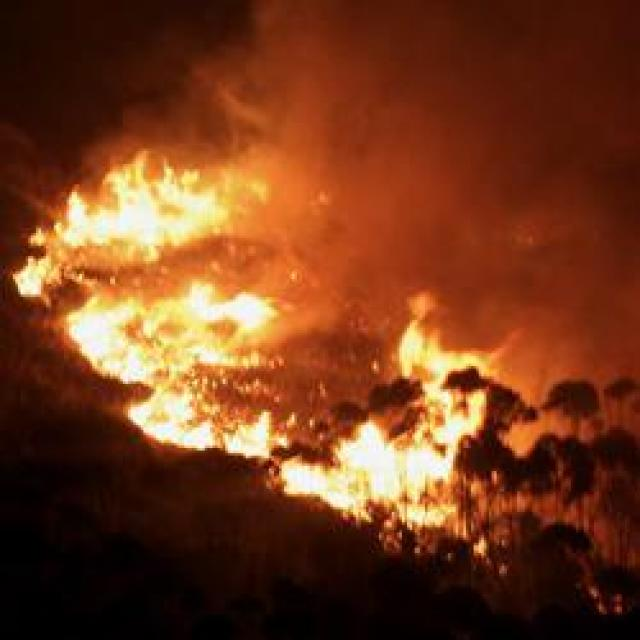fire: (60, 287, 289, 387), (275, 436, 467, 525), (64, 160, 239, 253), (395, 294, 497, 436), (129, 391, 271, 457)
smoke: (231, 78, 397, 187), (516, 158, 636, 305), (464, 263, 622, 345)
